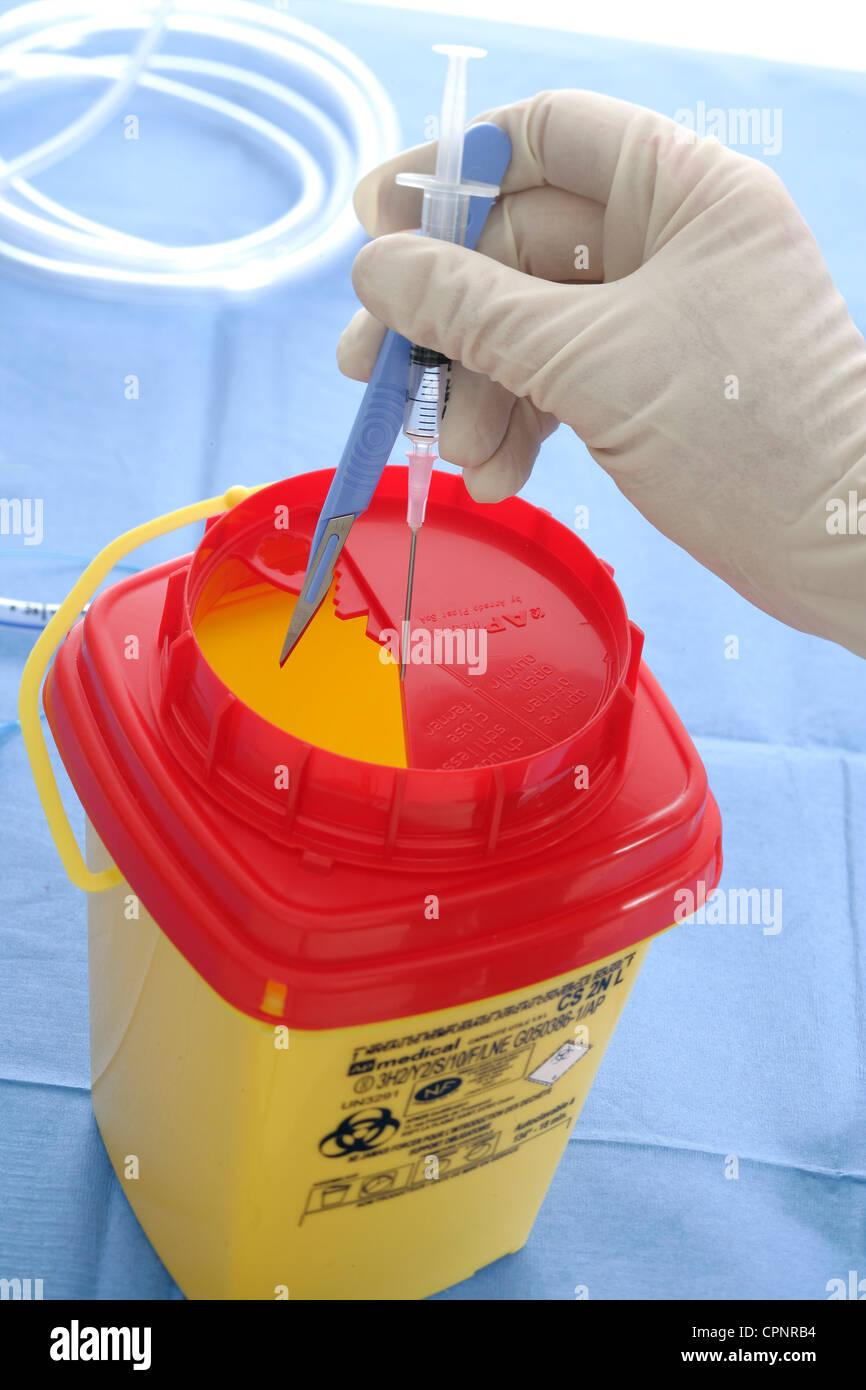Glove: (338, 90, 865, 655)
Syringe: (400, 345, 450, 679)
